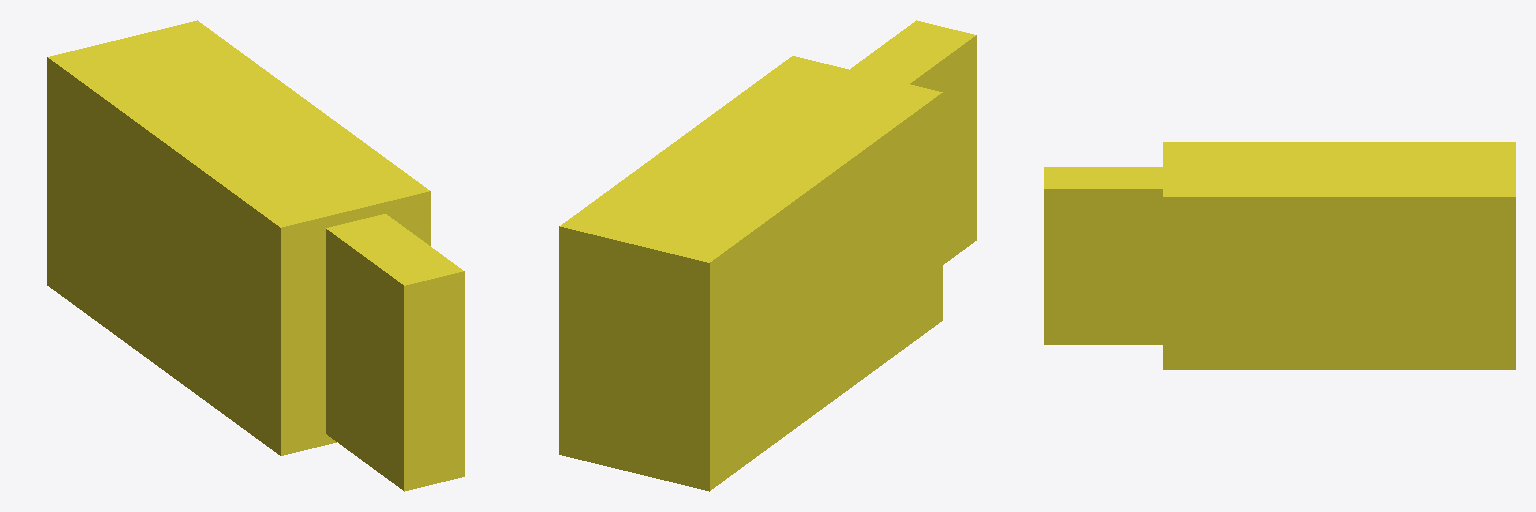
robot.urdf — 2v2_1.2_1.1_8.10_1.1:
<?xml version="1.0" ?>
<robot name="2v2_1.2_1.1_8.10_1.1">

    <link name="palm">
        <visual>
            <origin rpy="0 0 0" xyz="0 0 0"/>
            <geometry>
                <mesh filename="obj_files/palm.obj" scale="1 1 1"/>
            </geometry>
        </visual>
        <collision>
            <geometry>
                <mesh filename="obj_files/palm_collision.obj" scale="1 1 1"/>
            </geometry>
        </collision>
    </link>

    <link name="finger0_segment0">
        <visual>
            <origin rpy="0 0 0" xyz="0 0 0"/>
            <geometry>
                <mesh filename="obj_files/finger0_segment0.obj" scale="1 1 1"/>
            </geometry>
        </visual>
        <collision>
            <geometry>
                <mesh filename="obj_files/finger0_segment0_collision.obj" scale="1 1 1"/>
            </geometry>
        </collision>
    </link>

    <joint name="finger0_segment0_joint" type="revolute">
        <parent link="palm"/>
        <child link="finger0_segment0"/>
        <origin rpy="0 0 0" xyz="0.02675 0 0.0"/>
        <axis xyz="0 0 1"/>
        <limit effort="1000.0" lower="-3.14" upper="3.14" velocity="0.5"/>
    </joint>

    <link name="finger0_segment1">
        <visual>
            <origin rpy="0 0 0" xyz="0 0 0"/>
            <geometry>
                <mesh filename="obj_files/finger0_segment1.obj" scale="1 1 1"/>
            </geometry>
        </visual>
        <collision>
            <geometry>
                <mesh filename="obj_files/finger0_segment1_collision.obj" scale="1 1 1"/>
            </geometry>
        </collision>
    </link>

    <joint name="finger0_segment1_joint" type="revolute">
        <parent link="finger0_segment0"/>
        <child link="finger0_segment1"/>
        <origin rpy="0 0 0" xyz="0 0.08879999999999999 0"/>
        <axis xyz="0 0 1"/>
        <limit effort="1000.0" lower="-3.14" upper="3.14" velocity="0.5"/>
    </joint>

    <link name="finger1_segment0">
        <visual>
            <origin rpy="0 0 0" xyz="0 0 0"/>
            <geometry>
                <mesh filename="obj_files/finger1_segment0.obj" scale="1 1 1"/>
            </geometry>
        </visual>
        <collision>
            <geometry>
                <mesh filename="obj_files/finger1_segment0_collision.obj" scale="1 1 1"/>
            </geometry>
        </collision>
    </link>

    <joint name="finger1_segment0_joint" type="revolute">
        <parent link="palm"/>
        <child link="finger1_segment0"/>
        <origin rpy="0 0 0" xyz="-0.02675 0 3.27593018771917e-18"/>
        <axis xyz="0 0 1"/>
        <limit effort="1000.0" lower="-3.14" upper="3.14" velocity="0.5"/>
    </joint>

    <link name="finger1_segment1">
        <visual>
            <origin rpy="0 0 0" xyz="0 0 0"/>
            <geometry>
                <mesh filename="obj_files/finger1_segment1.obj" scale="1 1 1"/>
            </geometry>
        </visual>
        <collision>
            <geometry>
                <mesh filename="obj_files/finger1_segment1_collision.obj" scale="1 1 1"/>
            </geometry>
        </collision>
    </link>

    <joint name="finger1_segment1_joint" type="revolute">
        <parent link="finger1_segment0"/>
        <child link="finger1_segment1"/>
        <origin rpy="0 0 0" xyz="0 0.07919999999999999 0"/>
        <axis xyz="0 0 1"/>
        <limit effort="1000.0" lower="-3.14" upper="3.14" velocity="0.5"/>
    </joint>

</robot>

--- Render facts (derived) ---
3 views of the same robot in one strip: view 1: azimuth 30°, elevation 25°; view 2: azimuth 150°, elevation 25°; view 3: azimuth 270°, elevation 25° (orthographic).
Robot: 2v2_1.2_1.1_8.10_1.1 — 5 links, 4 joints (4 revolute); root link palm; default pose: all joints at 0.
Visible links, largest first — view 1: finger1_segment0; view 2: finger1_segment0; view 3: finger1_segment0.
Boxes of the visible links, left/top/right/bottom form: finger1_segment0: left=47, top=20, right=464, bottom=491; finger1_segment0: left=559, top=20, right=976, bottom=491; finger1_segment0: left=1044, top=142, right=1515, bottom=369.
Size in the robot's own frame: 0.022 by 0.0792 by 0.032 metres.
1 mesh visuals loaded from 5 distinct referenced files (1 OBJ); not drawn: 4 (reference not matched to a file when rendering).